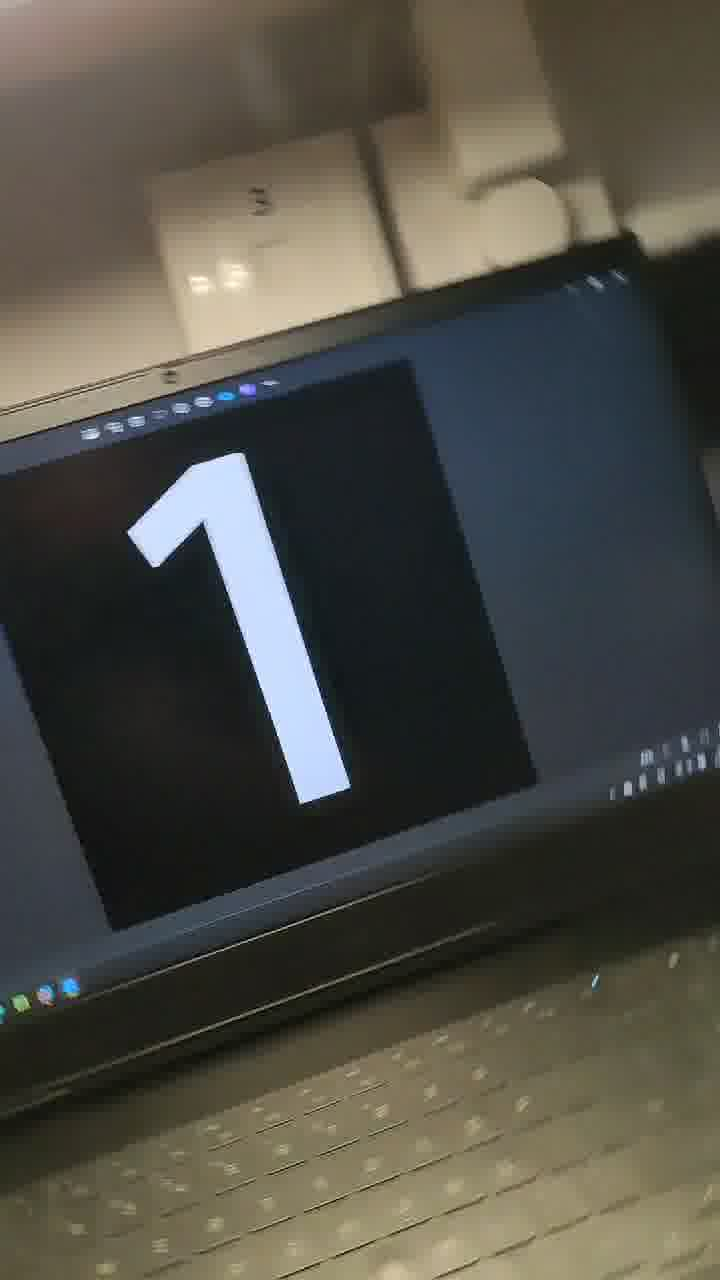one: (66, 400, 396, 839)
